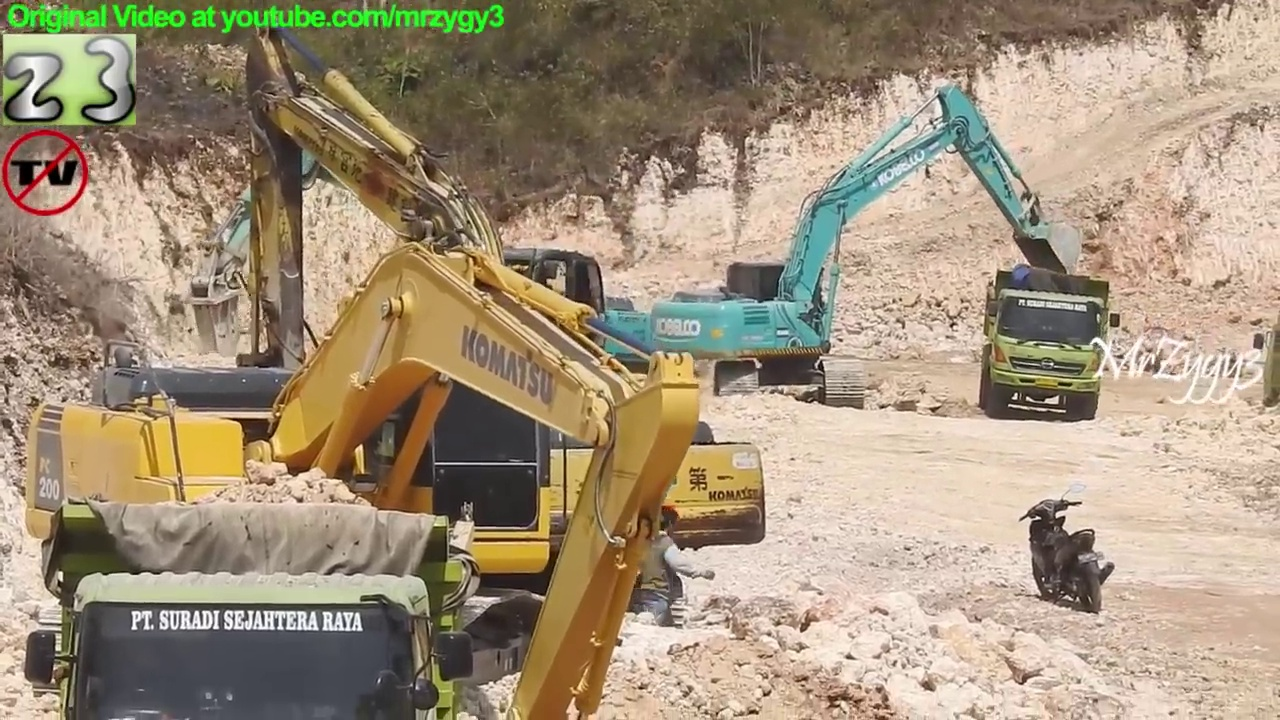excavator: (220, 17, 775, 654), (12, 230, 713, 720), (179, 96, 672, 428), (643, 78, 1085, 414)
truck: (16, 492, 485, 720), (975, 264, 1123, 426), (1248, 317, 1280, 416)
